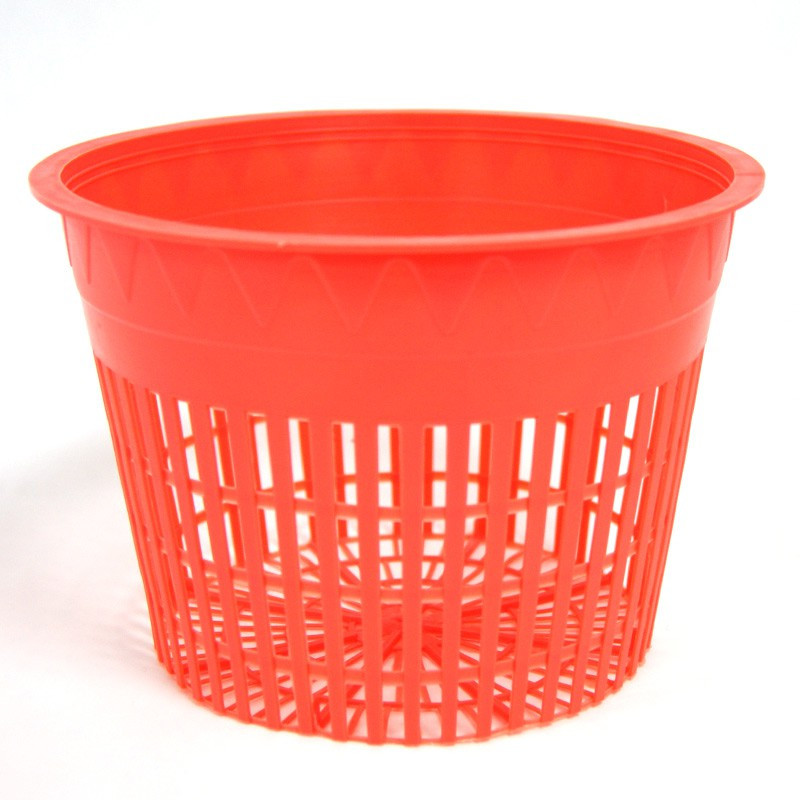basket: (29, 119, 775, 737)
